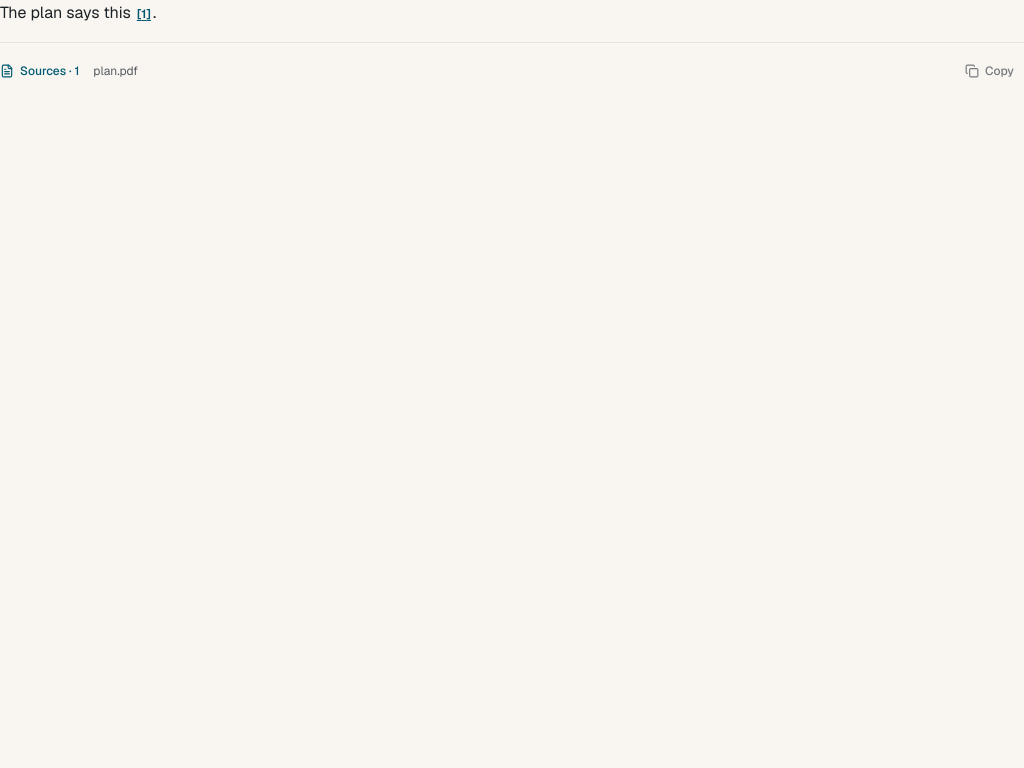
it: answer citation interaction › shows cited evidence and a real Drive action without retrieval internals
Step 1. Click the button named "view citation 1" → click(144, 14), box [137,6,151,22]
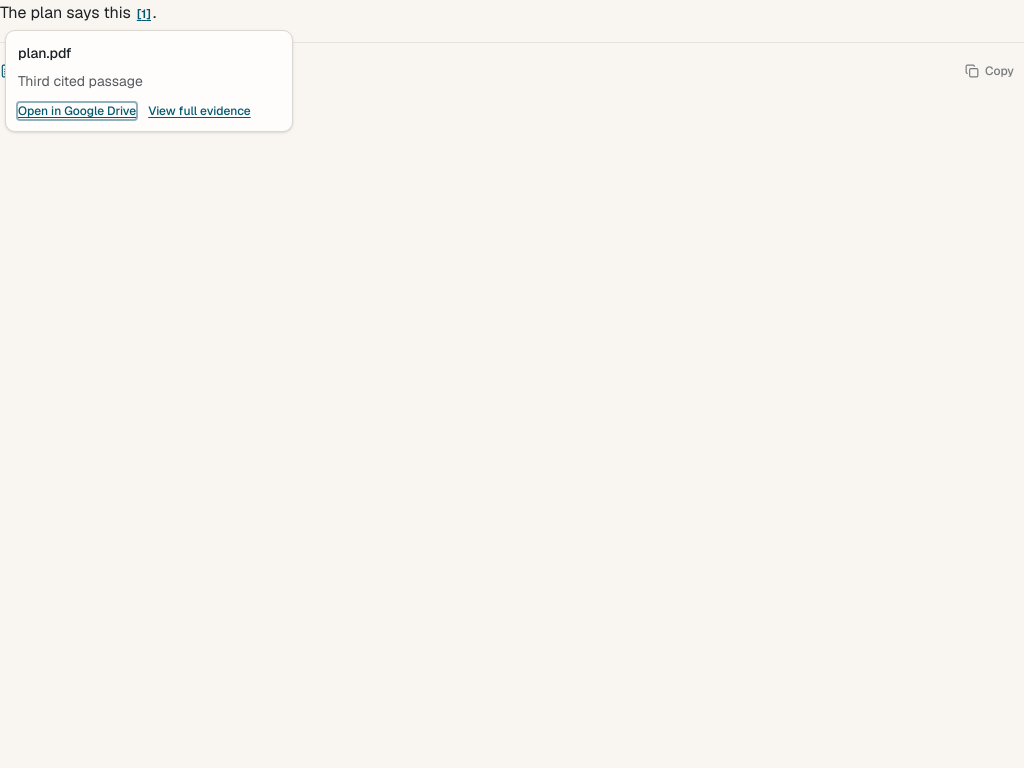
Check: the text "Third cited passage" is shown, box [18,72,143,90]
